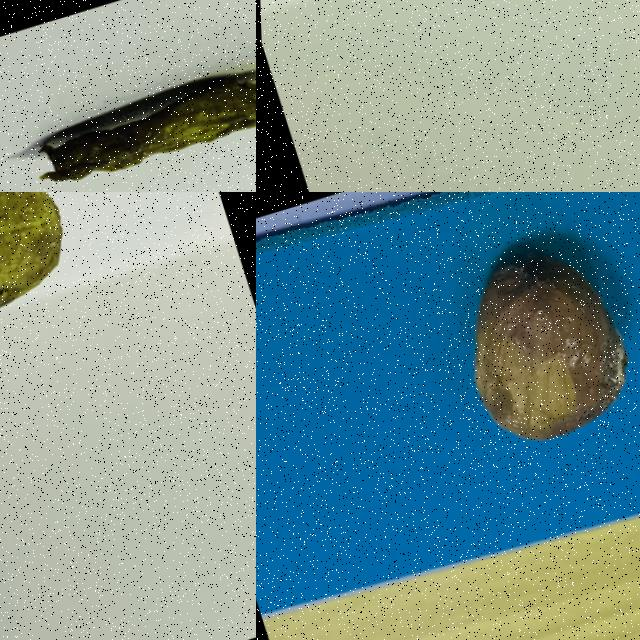Fine_cocoabeans: (345, 192, 639, 521), (0, 192, 112, 428)
Flat_cocoabeans: (0, 0, 255, 191)
